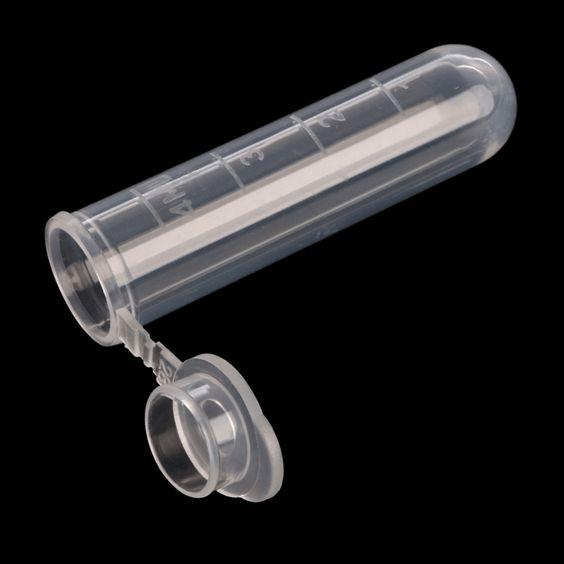PP: (41, 42, 515, 503)
